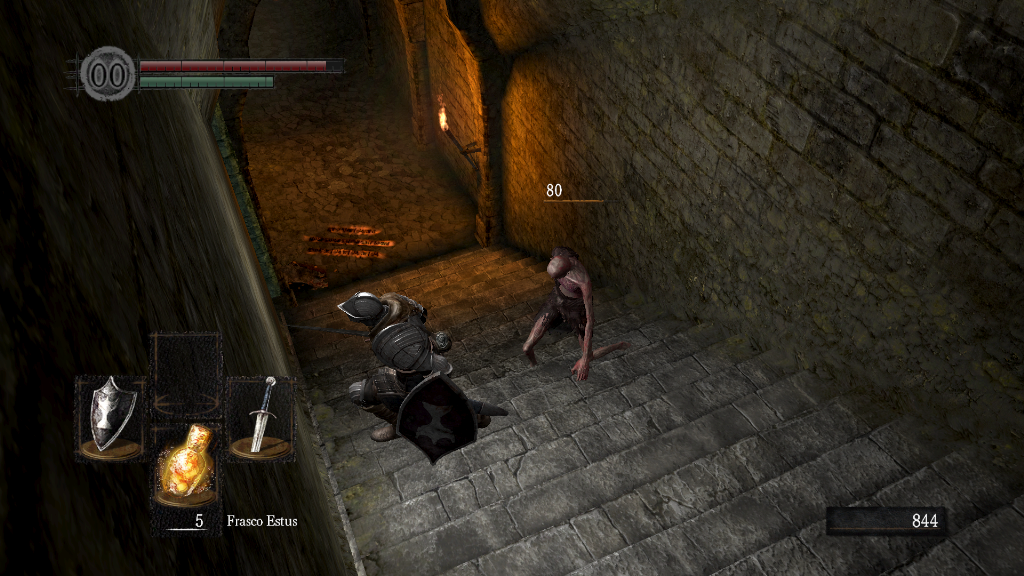health: (138, 58, 343, 71)
hollow: (520, 247, 630, 384)
humanity: (80, 45, 136, 102)
player: (277, 289, 510, 441)
souls: (825, 506, 945, 536)
stamina: (138, 74, 274, 88)
